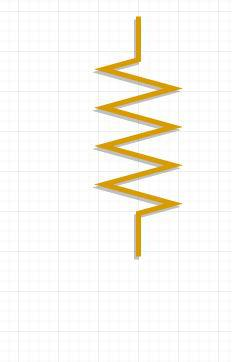resistor: (87, 37, 195, 231)
